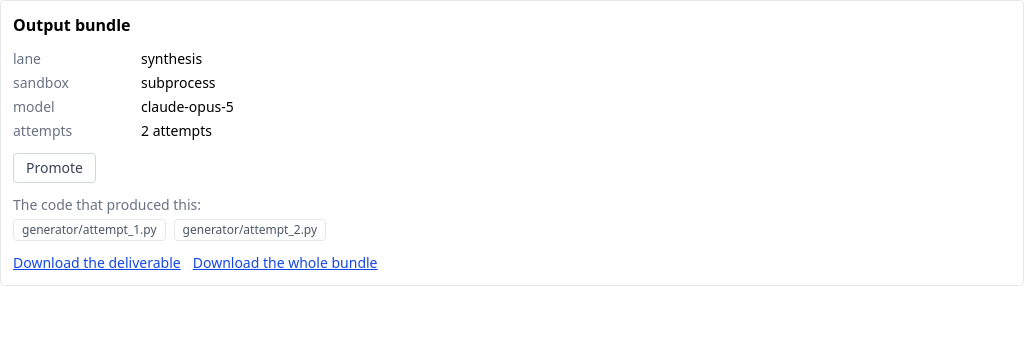
shows the code that actually ran, on demand
The image size is (1024, 339).
What coordinates should you click on to do the following:
click the button "generator/attempt_2.py"
I would click on:
 (250, 230)
Its box is left=174, top=219, right=326, bottom=241.
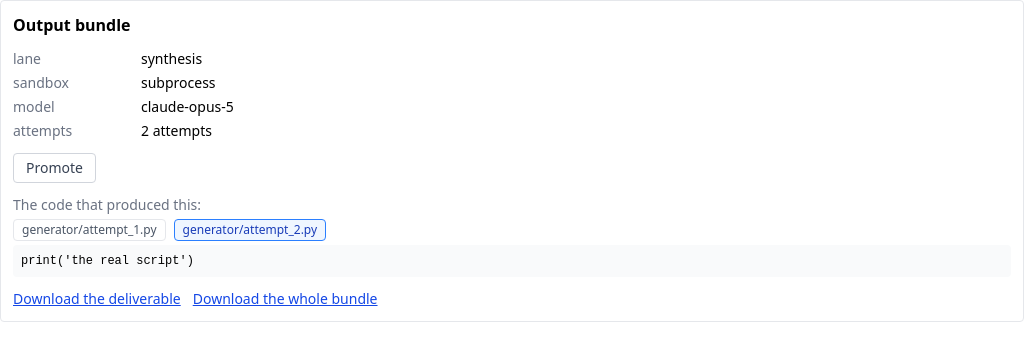
expect the text "print('the real script')" is shown: met, box left=13, top=245, right=1011, bottom=277
